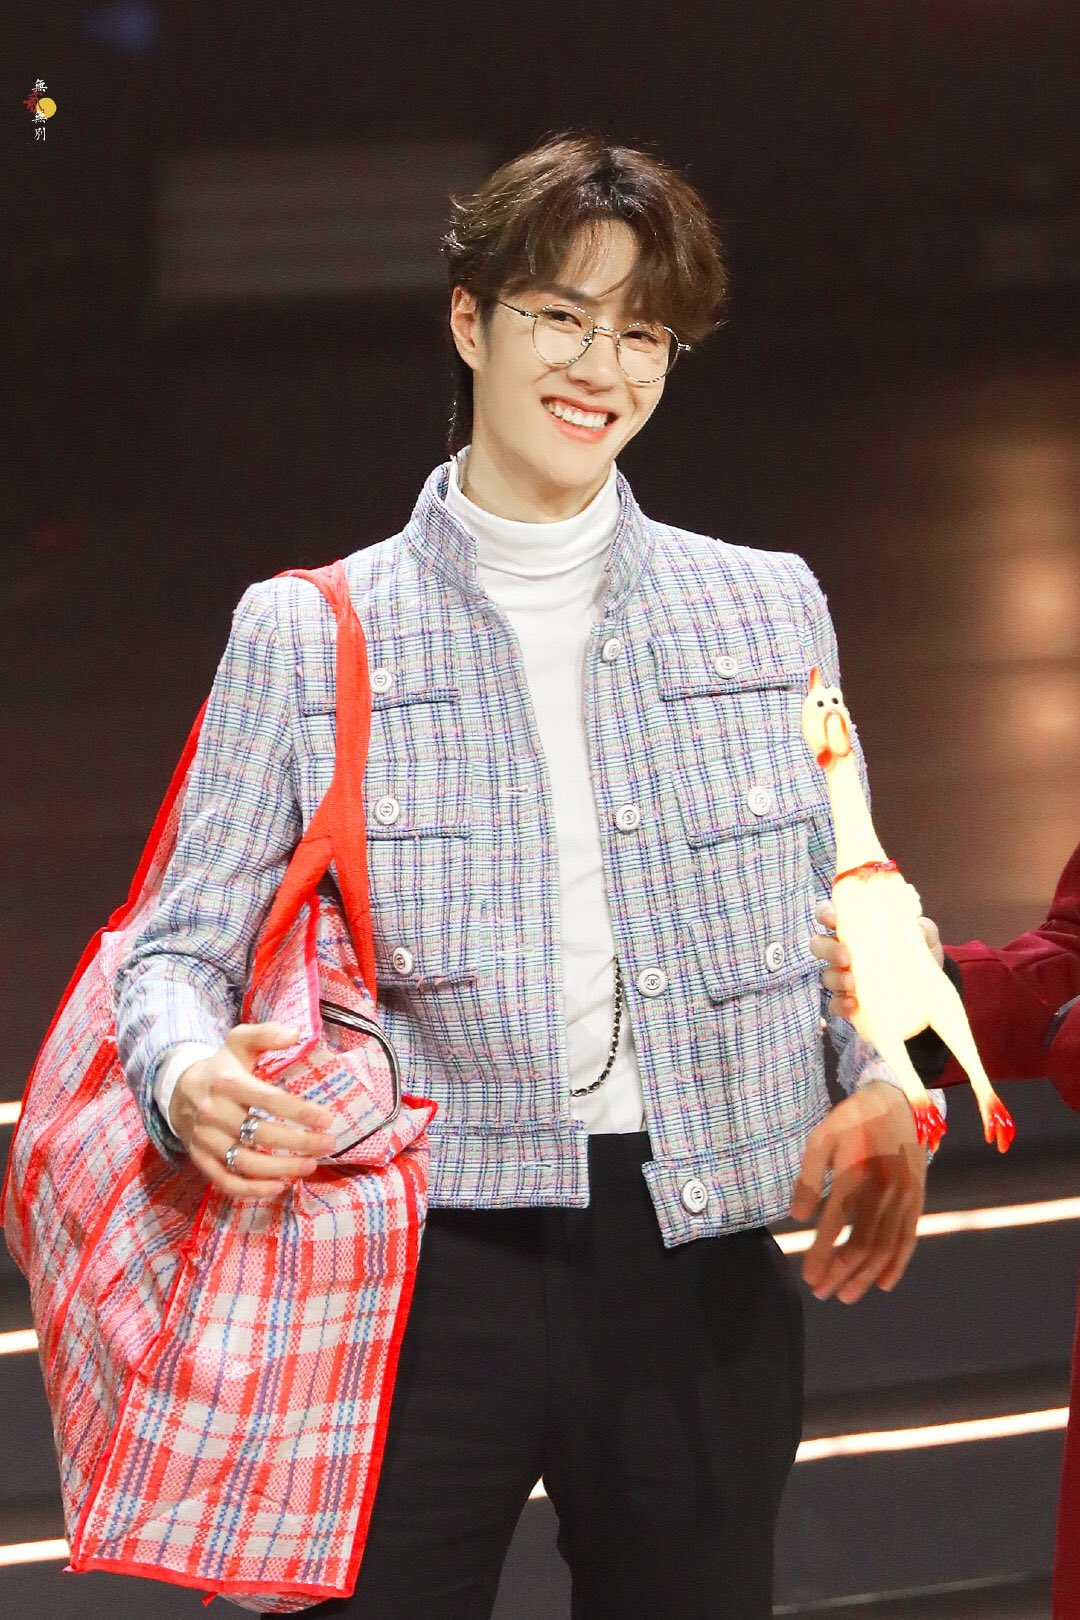bag: (4, 572, 424, 1607)
people: (169, 97, 913, 1620)
